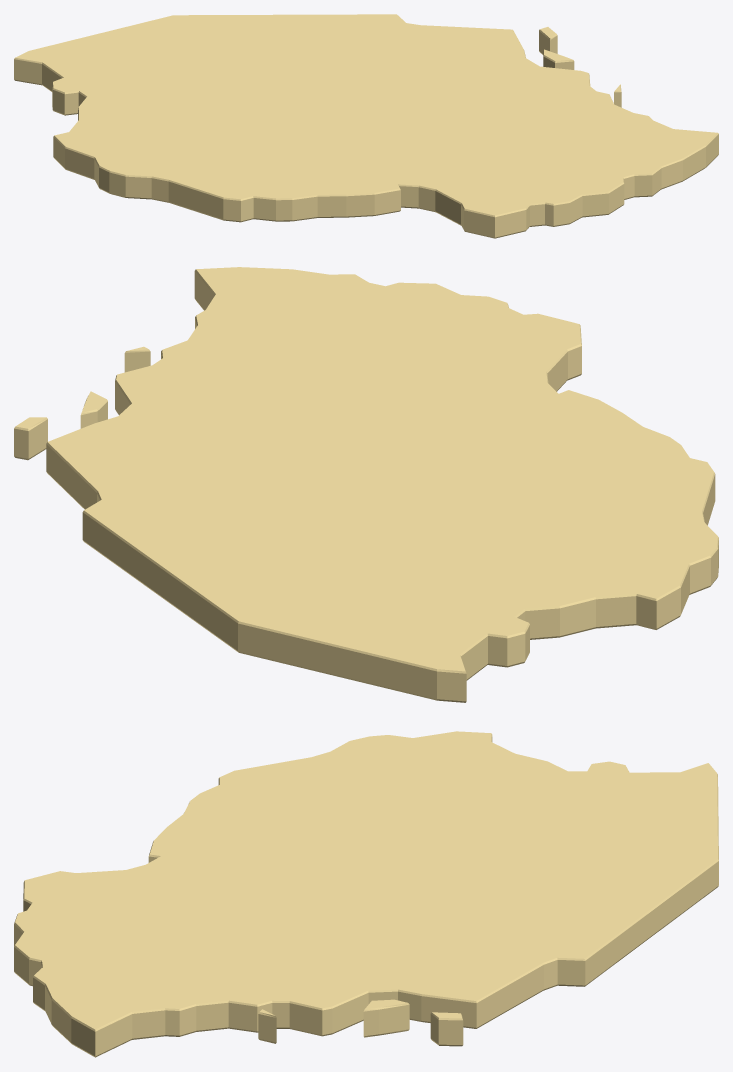
Rendered from TZA.glb.
3 renders of one model, top to bottom at view 1: azimuth 30°, elevation 25°; view 2: azimuth 150°, elevation 25°; view 3: azimuth 270°, elevation 25°, orthographic. The views are drawn at different scales.
Bounding box in the file's own units: 1.56 × 0.068 × 1.55.
